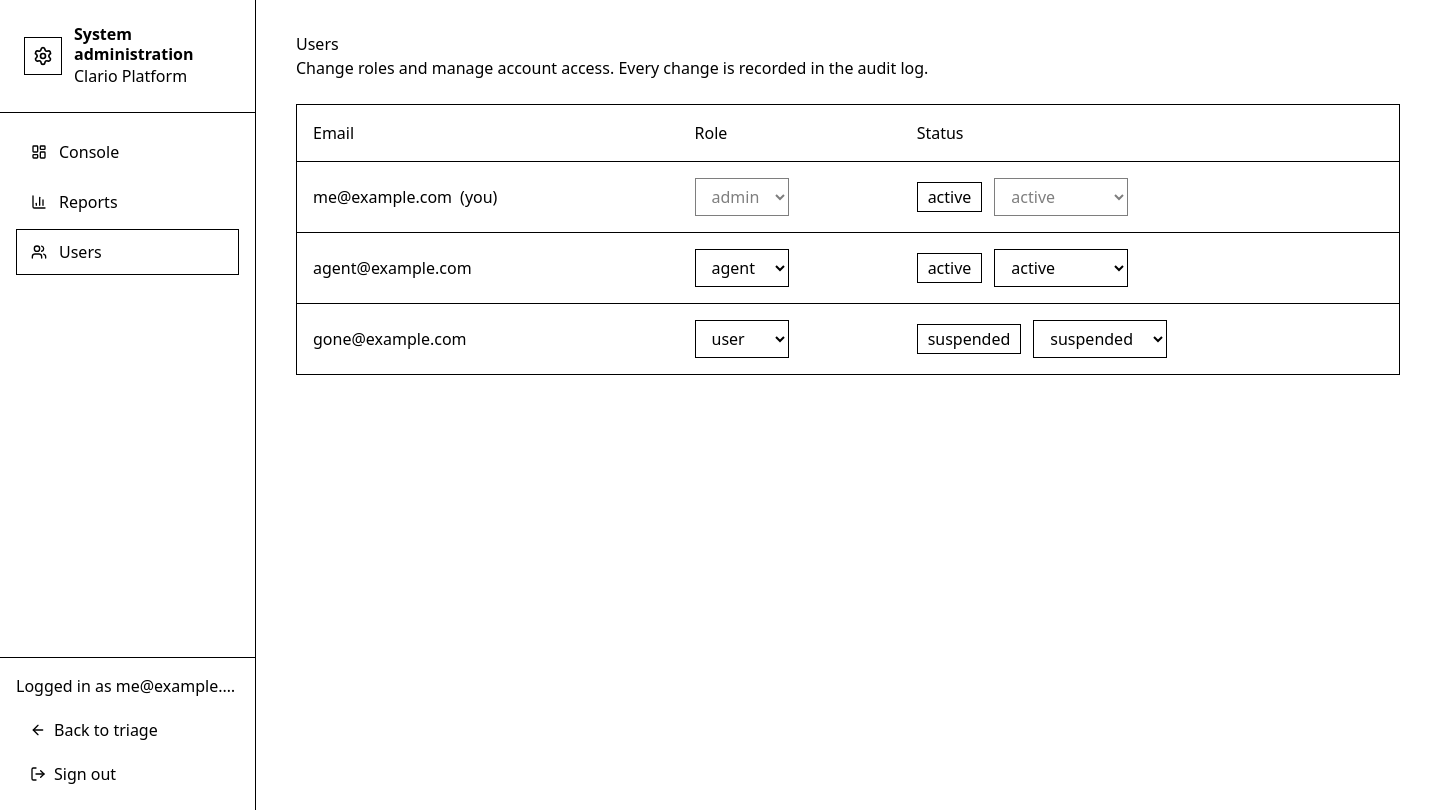
Test case: Admin users page (FR-042 / FR-043) › changes a role immediately (no confirmation) and shows the updated value
Select "admin" in the 1st dropdown named "Role for agent@example.com" at {"x": 742, "y": 268}, box [694,249,788,287]
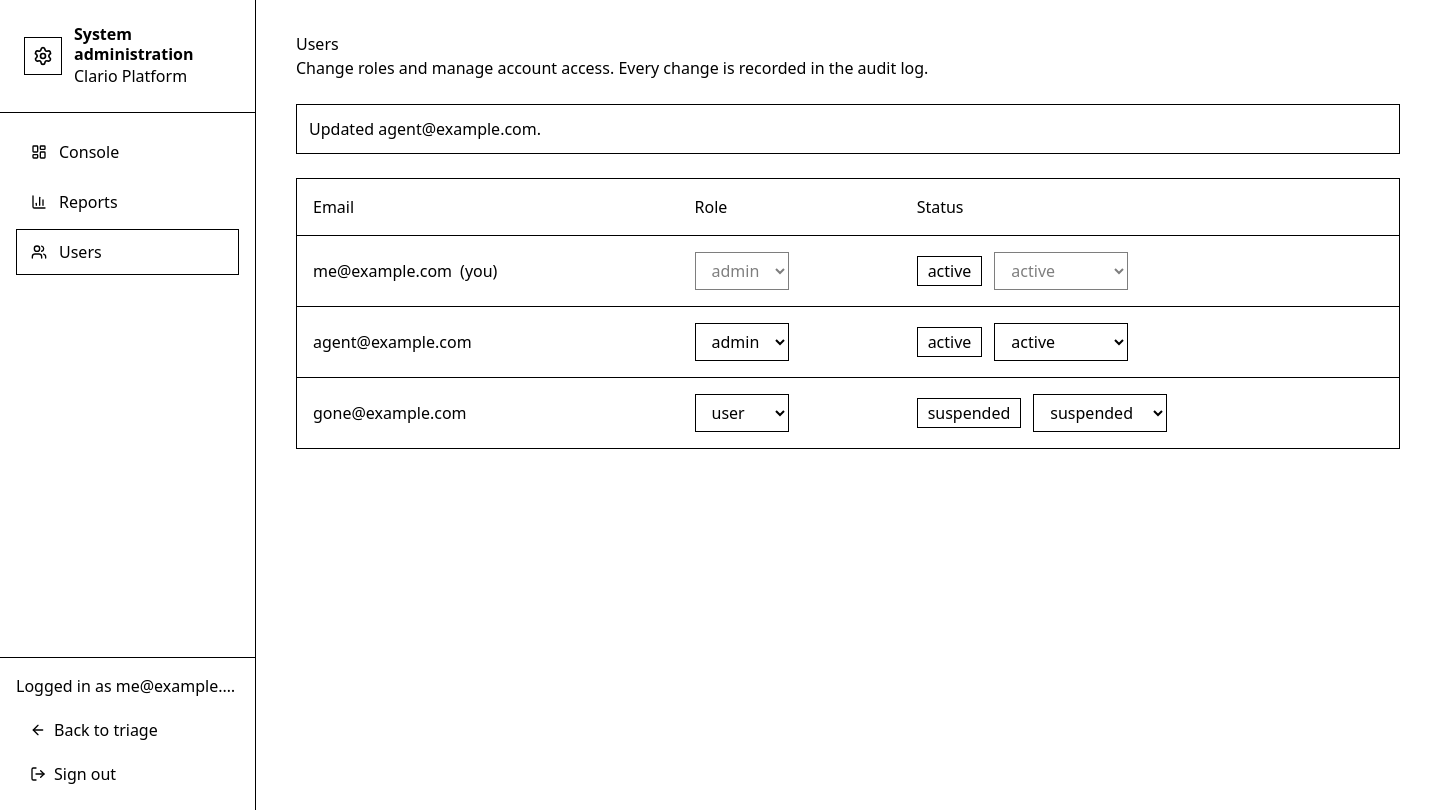
Expected: the message shows "Updated agent@example.com", [309,118,541,140]
